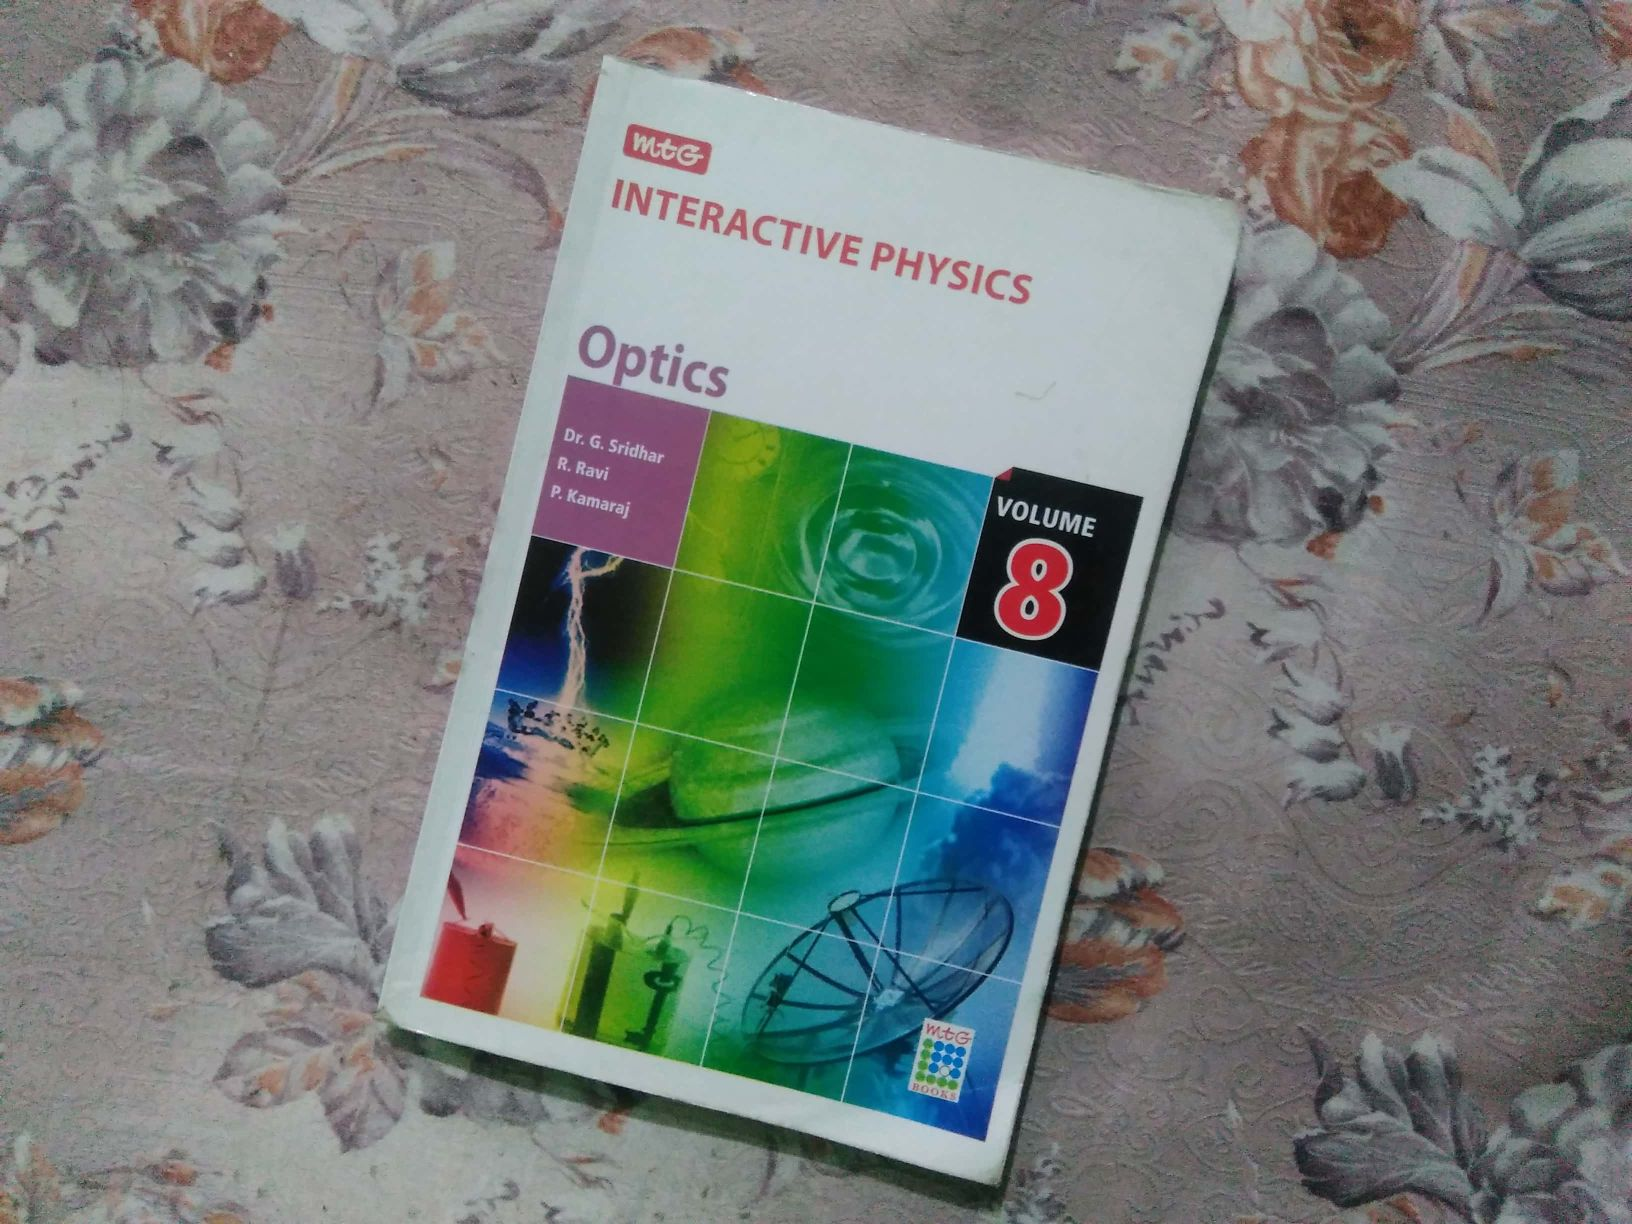optics: (448, 57, 1184, 1191)
